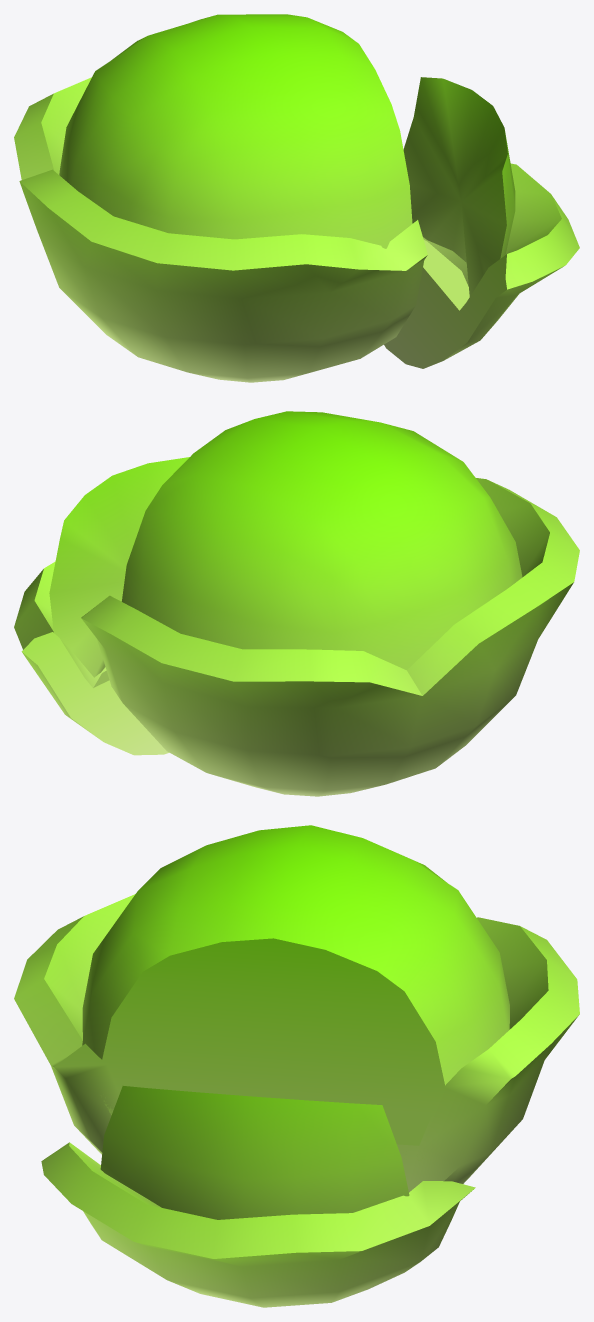
The model's file is Lettuce_01_S1.fbx.
The picture shows the model from 3 angles, top to bottom: view 1: azimuth 30°, elevation 25°; view 2: azimuth 150°, elevation 25°; view 3: azimuth 270°, elevation 25°; orthographic projection. The views are drawn at different scales.
Parts seen in each view (by area): view 1: Lettuce_01_S1; view 2: Lettuce_01_S1; view 3: Lettuce_01_S1.
Part boxes in pixels (x1=…): Lettuce_01_S1: x1=14, y1=14, x2=579, y2=382; Lettuce_01_S1: x1=14, y1=411, x2=579, y2=796; Lettuce_01_S1: x1=14, y1=825, x2=579, y2=1307.
Size of the model in its own units: 69.94 by 46.76 by 62.98.
